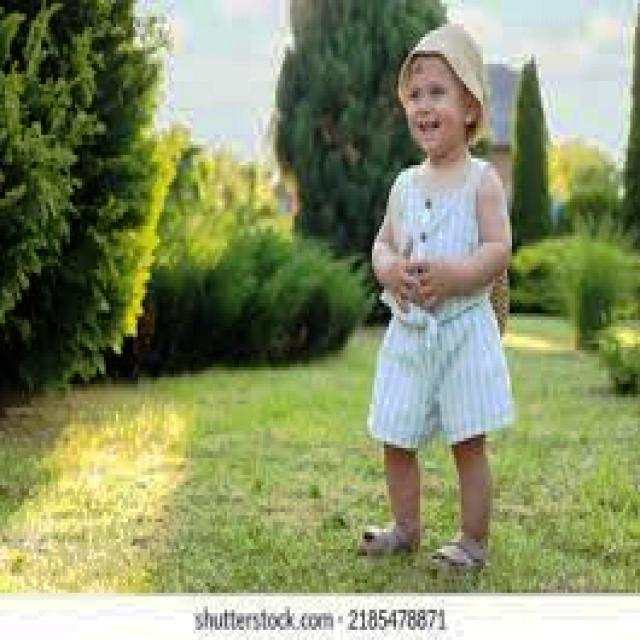TOPI: (393, 14, 492, 148)
